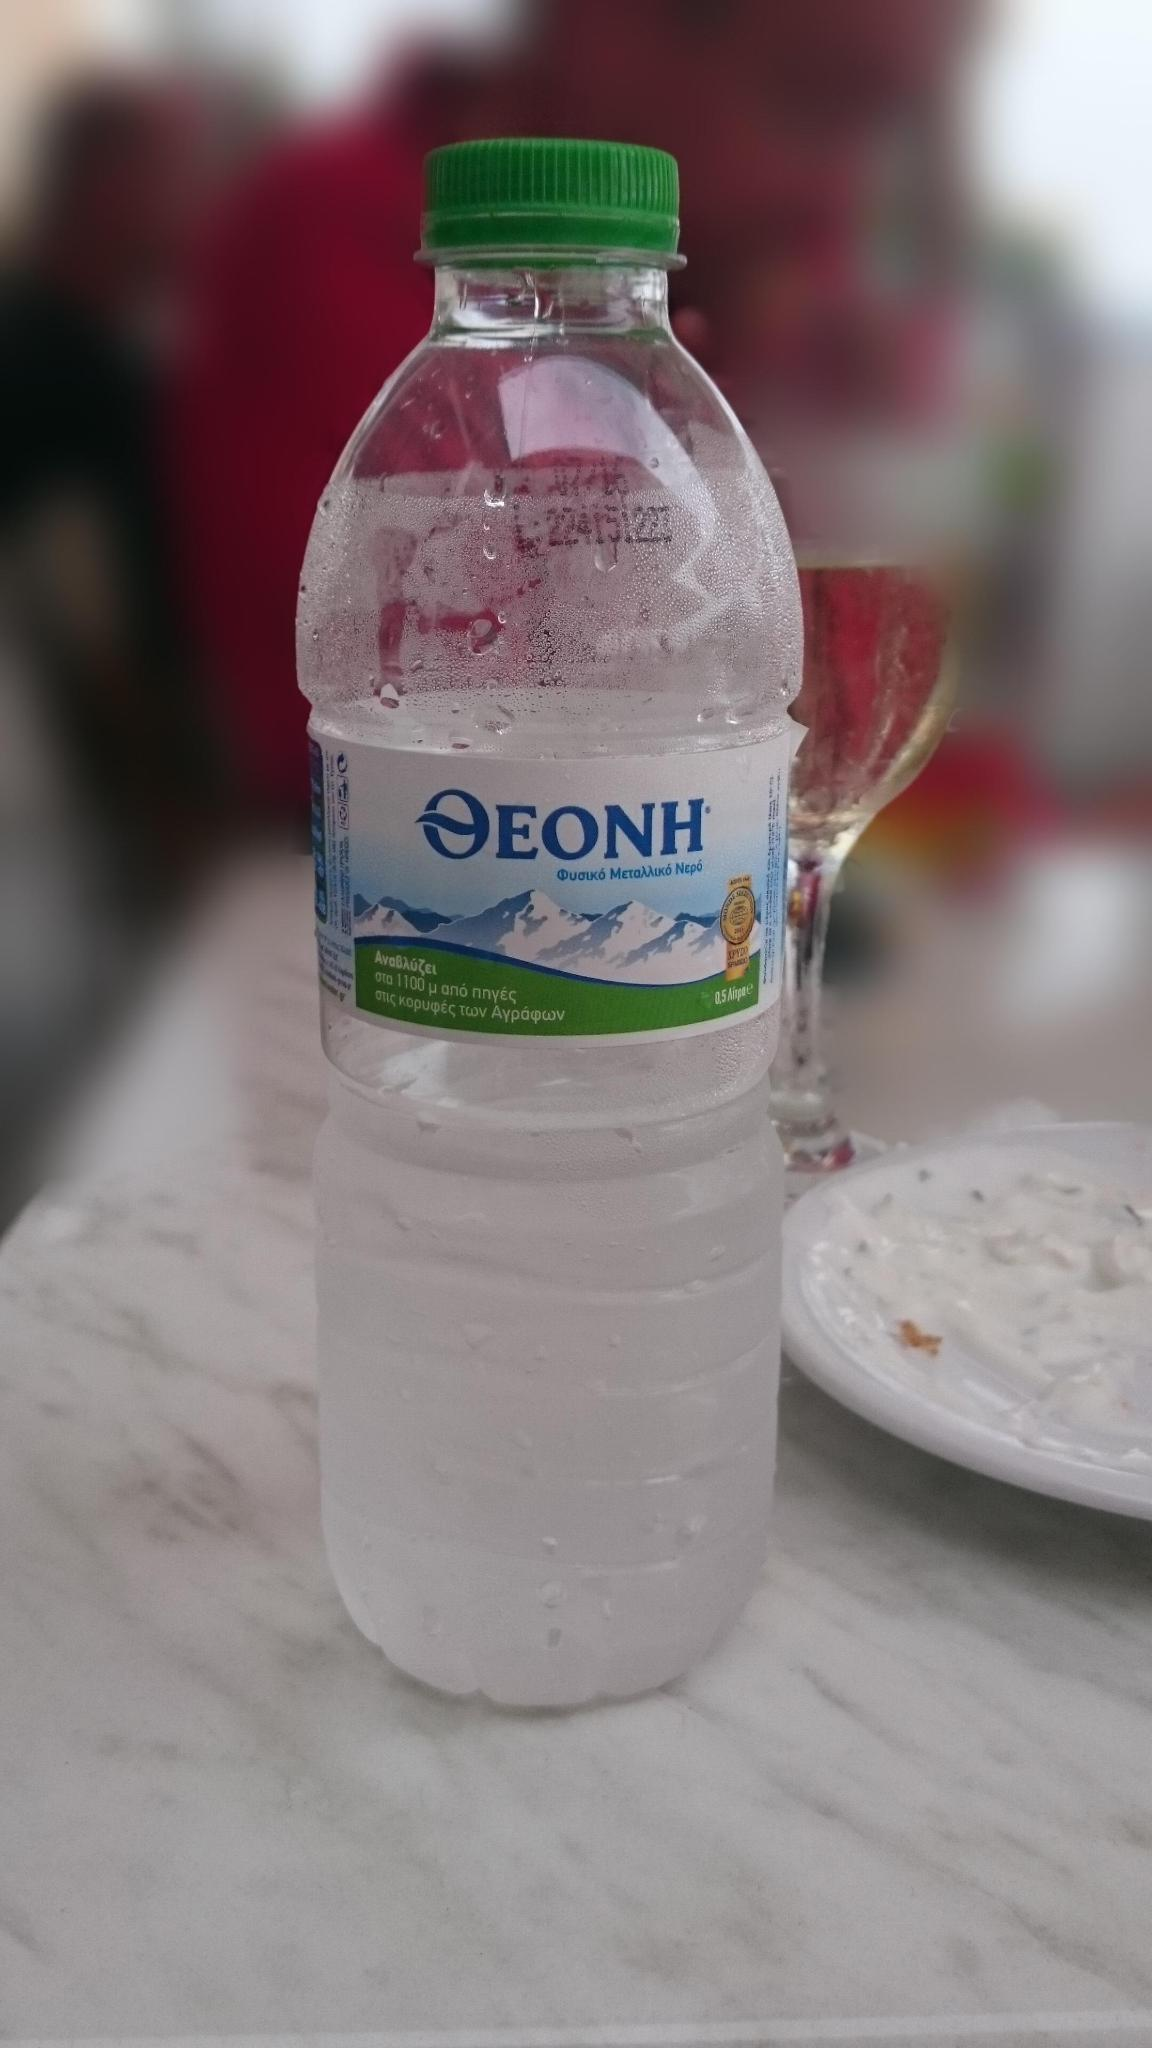bottle: (291, 91, 840, 1754)
